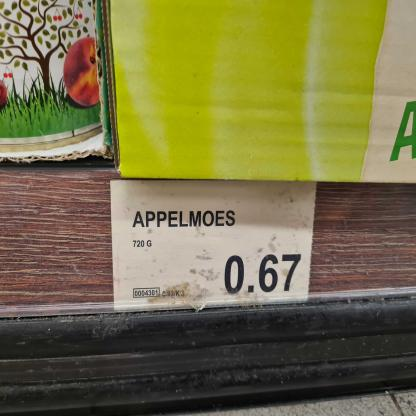prtg: (111, 182, 317, 311)
